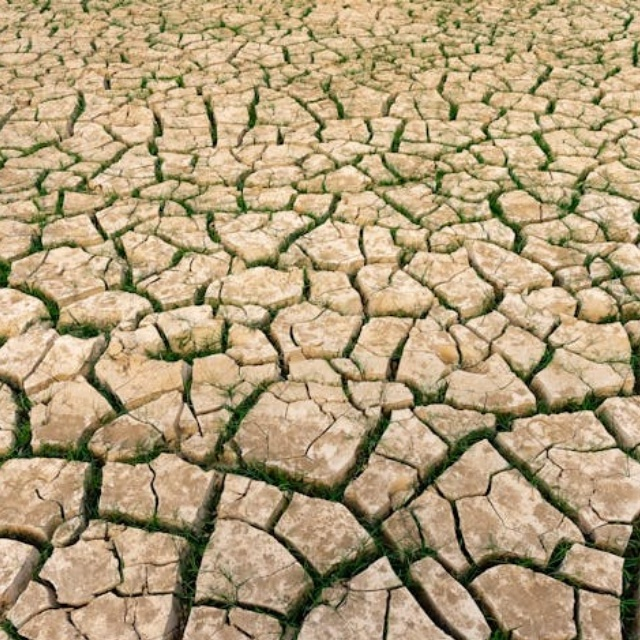深大裂缝: (63, 378, 261, 640)
细微裂纹: (0, 562, 197, 637)
网状裂隙: (0, 0, 640, 440)
